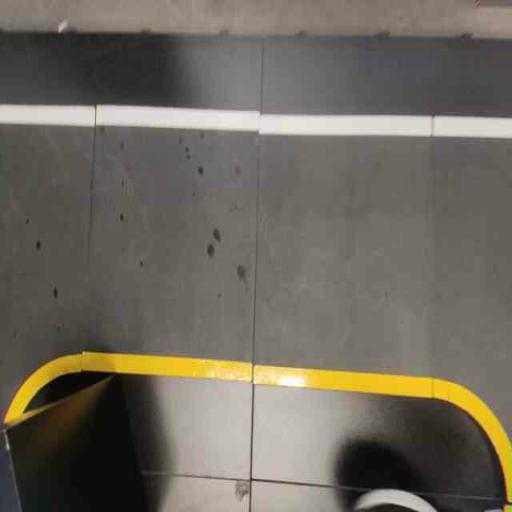straight: (81, 96, 435, 406)
